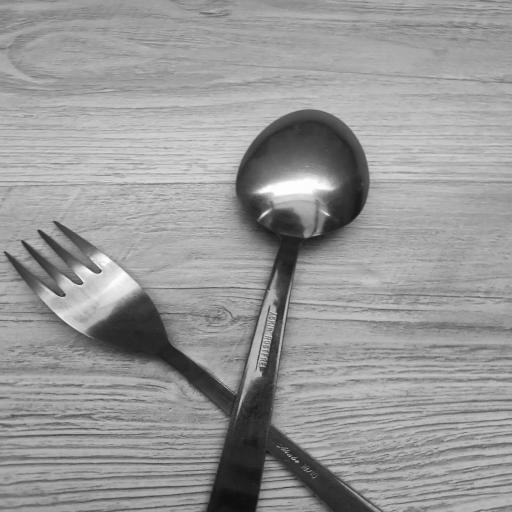fork: (0, 218, 383, 512)
spoon: (205, 108, 365, 512)
